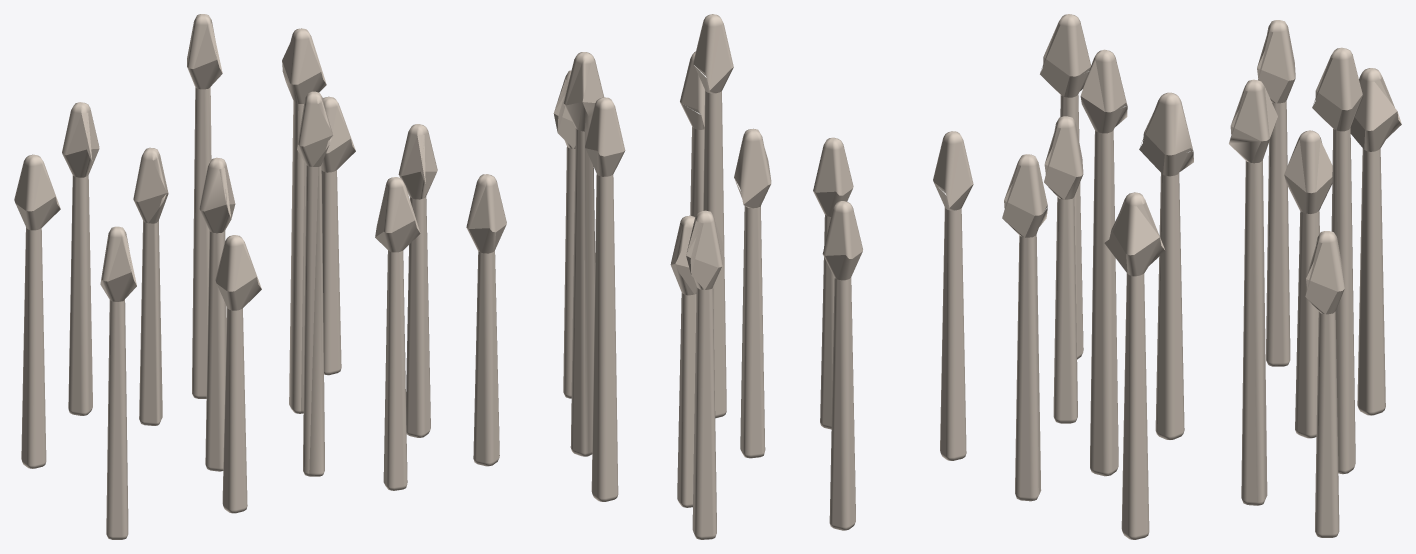
Rendered from crops_wheatStageB.glb.
3 renders of one model, left to right at view 1: azimuth 30°, elevation 25°; view 2: azimuth 150°, elevation 25°; view 3: azimuth 270°, elevation 25°, orthographic. The views are drawn at different scales.
Visible parts, largest first — view 1: crops_wheatStageB; view 2: crops_wheatStageB; view 3: crops_wheatStageB.
Part boxes in pixels (bbox=[...]): crops_wheatStageB: bbox=[14, 14, 437, 539]; crops_wheatStageB: bbox=[466, 14, 973, 539]; crops_wheatStageB: bbox=[1002, 14, 1401, 539].
Size of the model in its own units: 0.5339 by 0.5349 by 0.4586.
